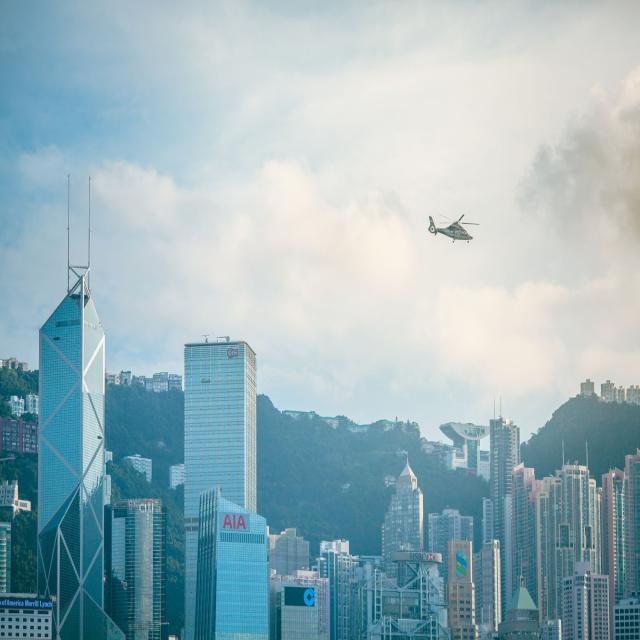helicopter: (428, 212, 479, 243)
